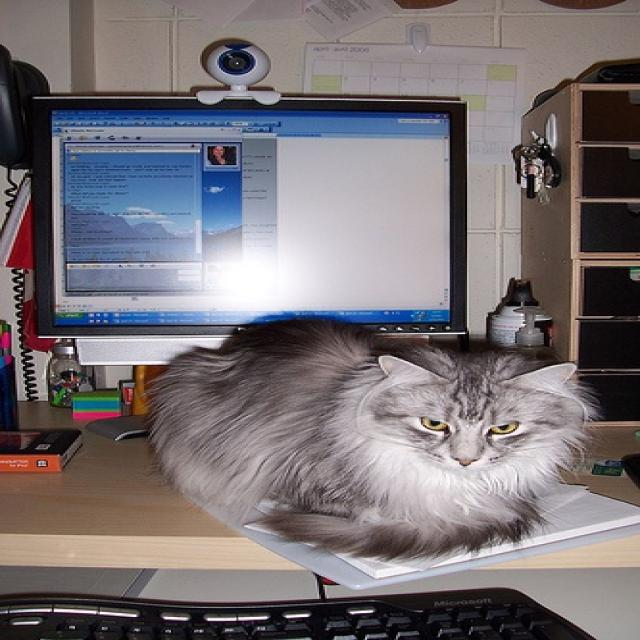cat: (142, 315, 602, 562)
tvmonitor: (27, 92, 475, 443)
